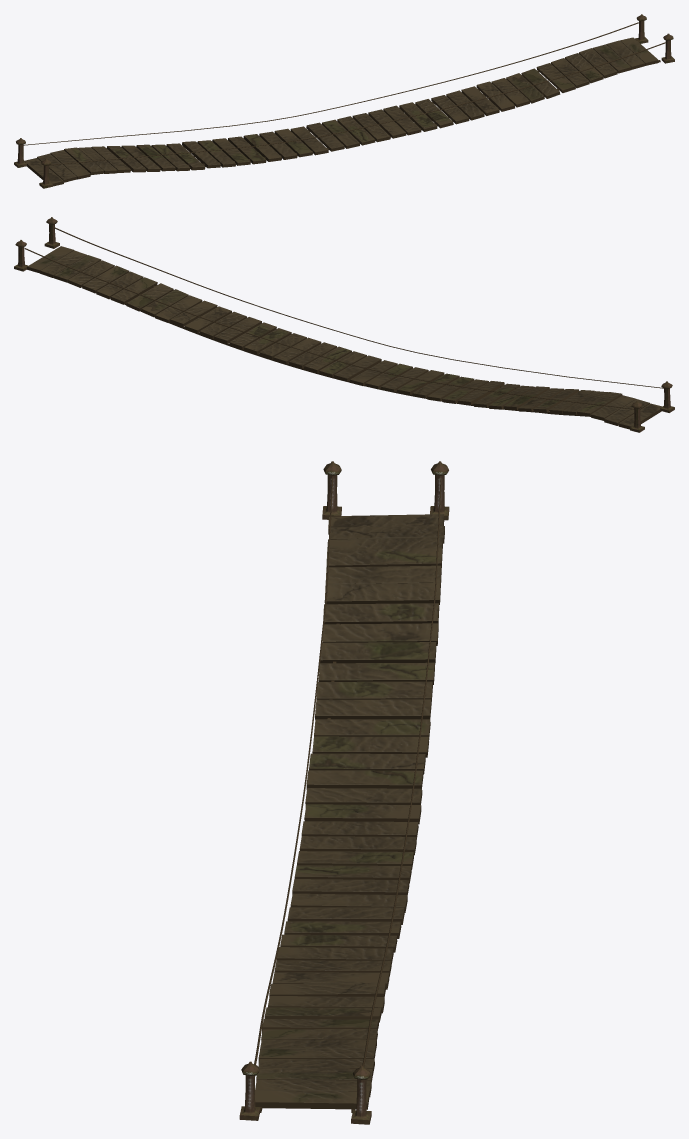
The model's file is mountainBridgeSeparate.fbx.
The picture shows the model from 3 angles, top to bottom: view 1: azimuth 30°, elevation 25°; view 2: azimuth 150°, elevation 25°; view 3: azimuth 270°, elevation 25°; orthographic projection. The views are drawn at different scales.
Parts seen in each view (by area): view 1: mountainBridge, ropes; view 2: mountainBridge, ropes; view 3: mountainBridge, ropes.
Boxes of the visible parts, <box> form: mountainBridge: <box>14,14,674,188</box>; ropes: <box>23,22,665,168</box>; mountainBridge: <box>14,217,674,432</box>; ropes: <box>24,227,663,416</box>; mountainBridge: <box>239,461,449,1124</box>; ropes: <box>254,477,441,1112</box>.
Bounding box in the file's own units: 1354 × 120 × 200.
